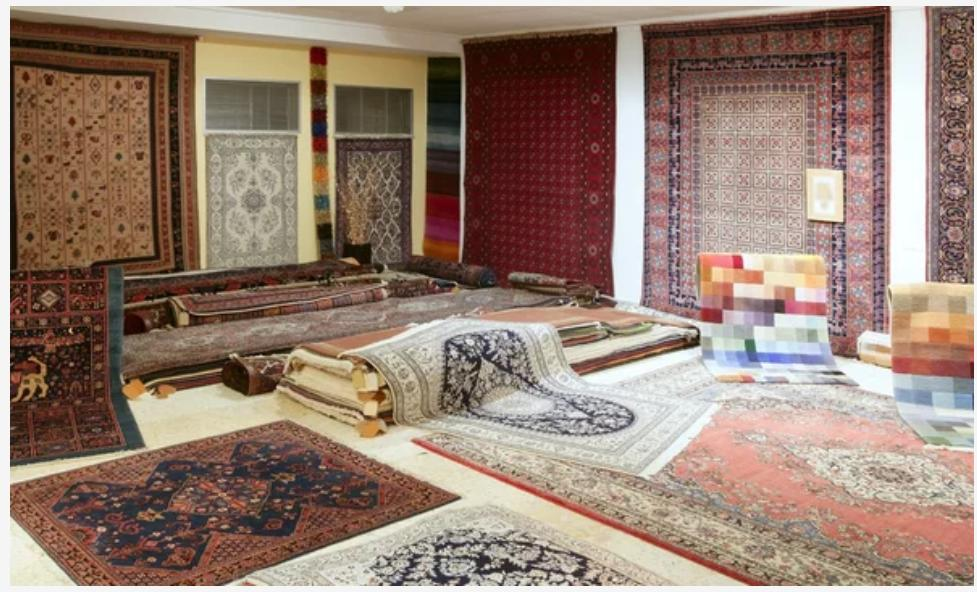carpet: (4, 346, 455, 592), (642, 6, 889, 354), (332, 278, 716, 495), (11, 21, 198, 273), (464, 31, 616, 292), (248, 505, 670, 586), (0, 259, 144, 464), (694, 252, 851, 384), (889, 282, 975, 449), (927, 8, 973, 282), (206, 134, 298, 267), (336, 139, 410, 262)
